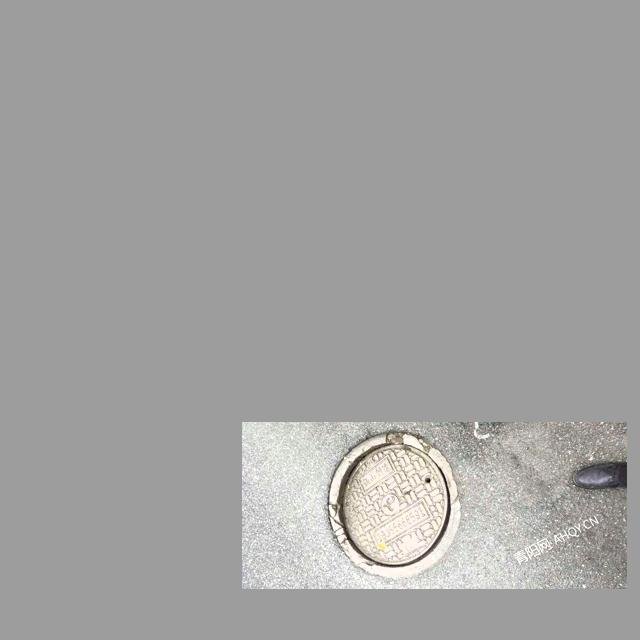circle: (309, 431, 469, 577)
